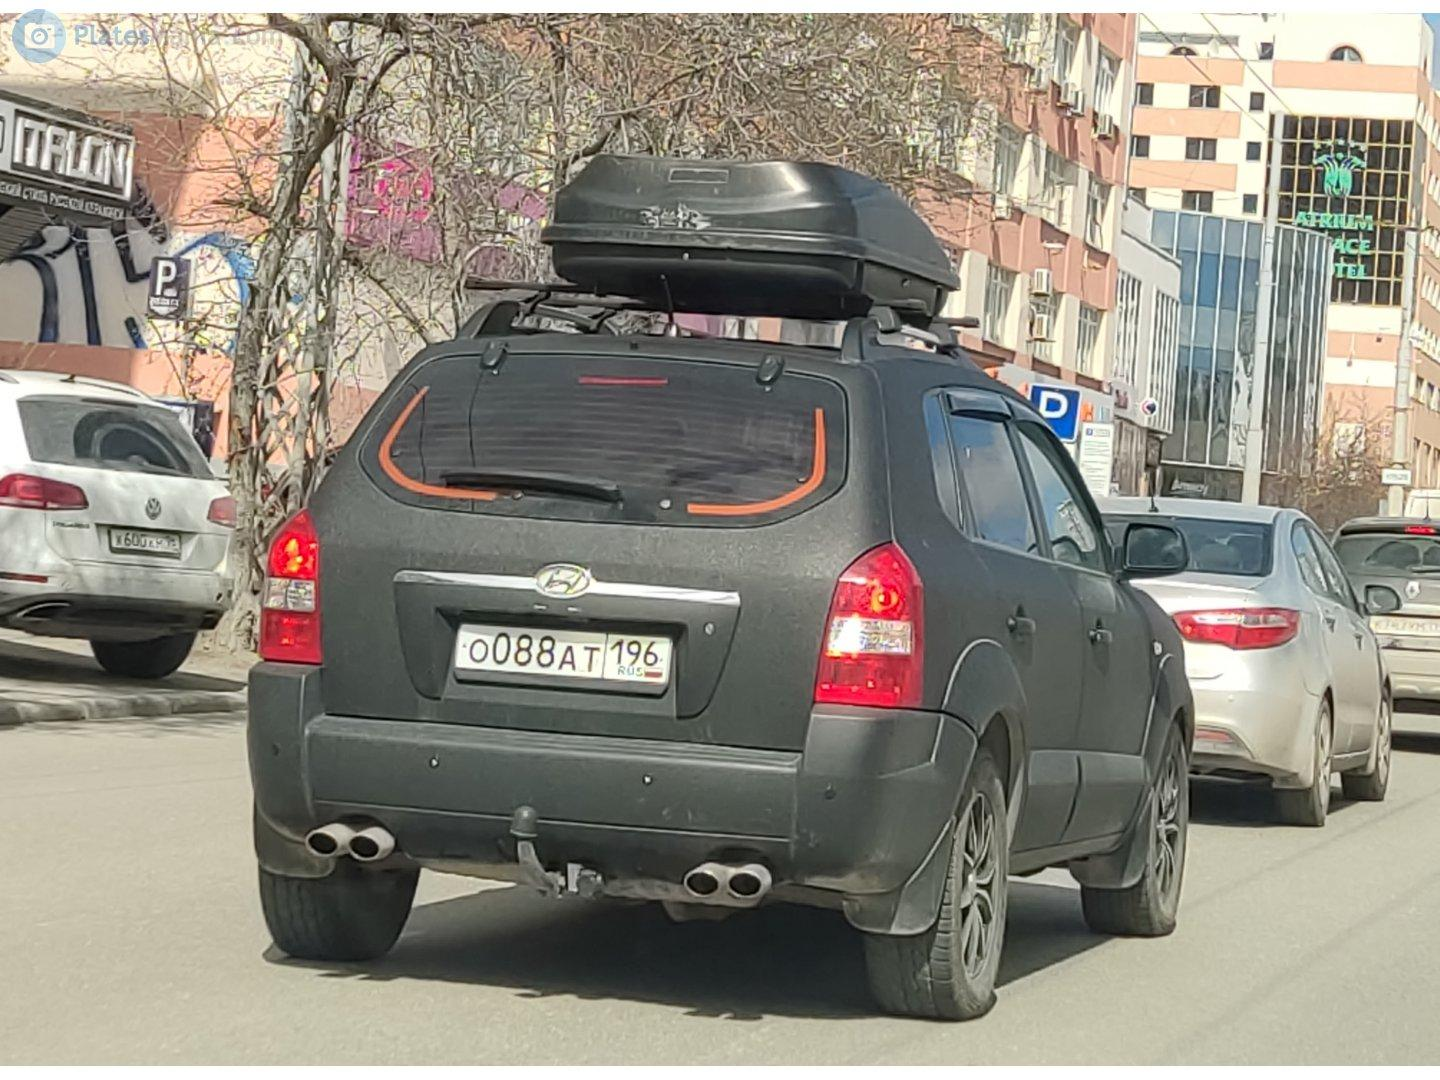license-plateSW: (454, 627, 671, 683), (113, 530, 184, 555), (1372, 616, 1439, 634)
